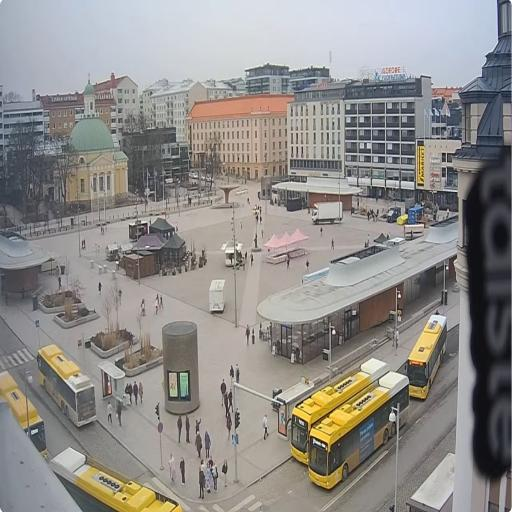bus: (303, 371, 410, 492), (284, 357, 388, 466), (47, 444, 183, 512), (36, 344, 100, 431), (0, 360, 49, 460), (403, 312, 450, 401)
car: (205, 172, 215, 183), (190, 172, 198, 180), (200, 173, 204, 181)
delivery: (310, 200, 344, 230)
